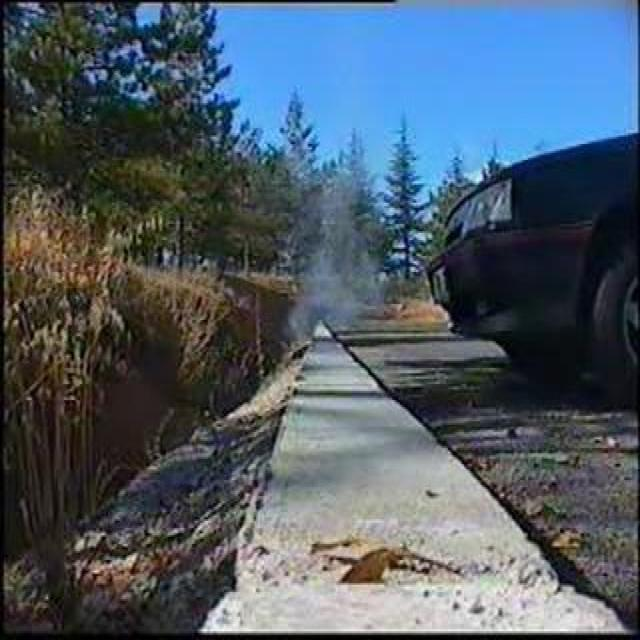Smoke: (288, 170, 384, 346)
